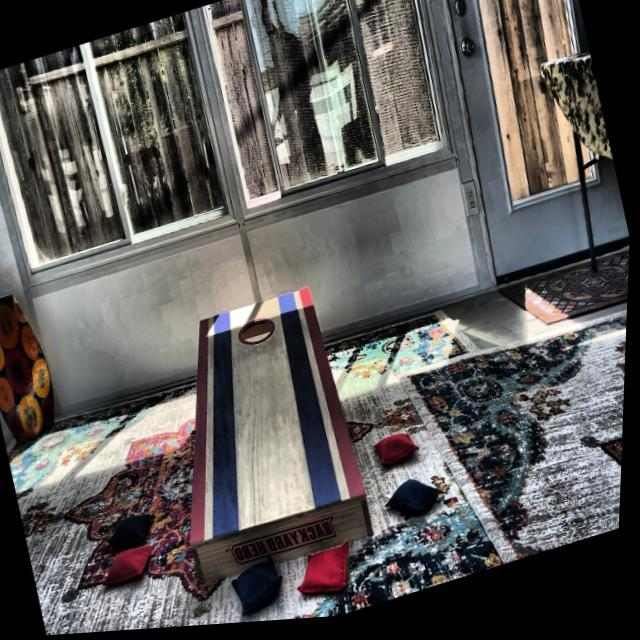blue-bean-bag: (230, 553, 294, 623), (383, 476, 450, 532), (105, 508, 164, 556)
board: (179, 285, 367, 542)
hole: (237, 315, 281, 353)
red-bean-bag: (294, 544, 363, 607), (101, 545, 162, 590), (375, 433, 424, 476)
